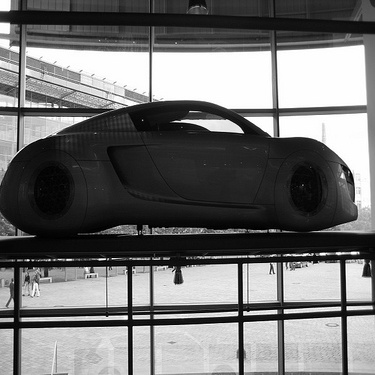car: (1, 94, 364, 241)
